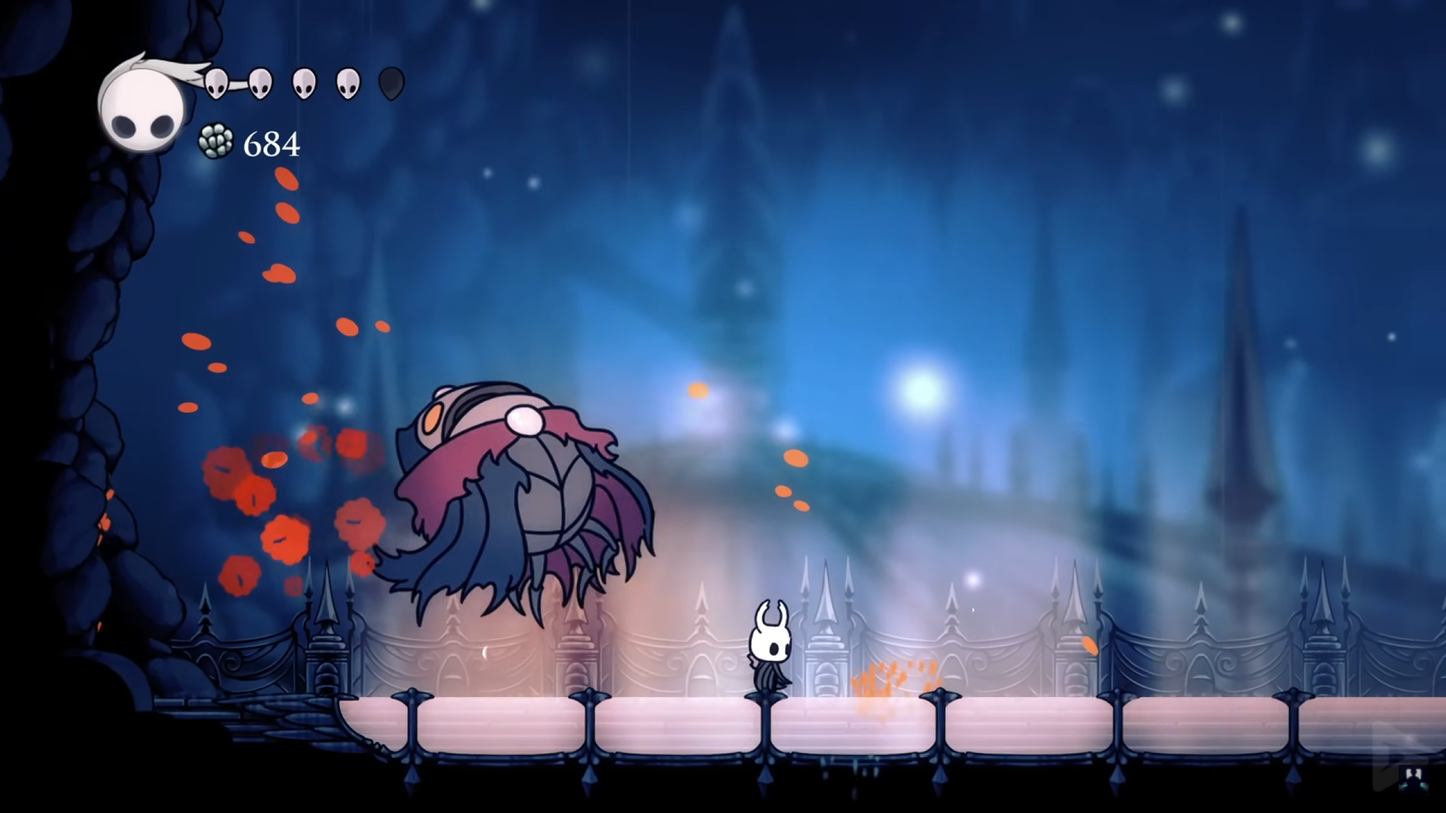HK: (741, 596, 797, 702)
